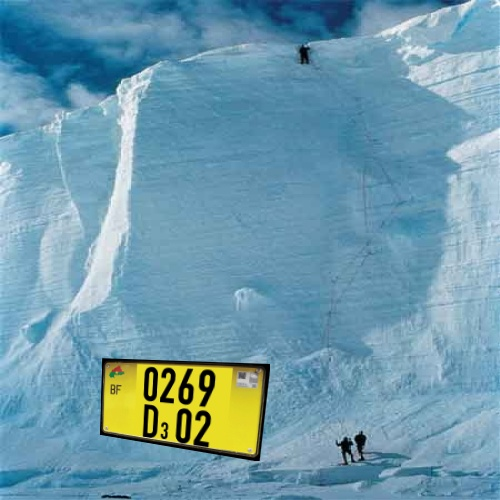plate: (93, 345, 288, 471)
